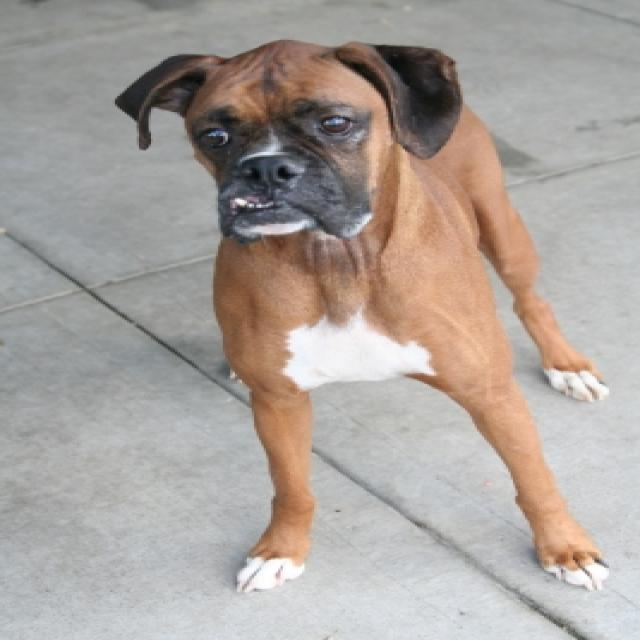Dogs: (113, 37, 611, 595)
